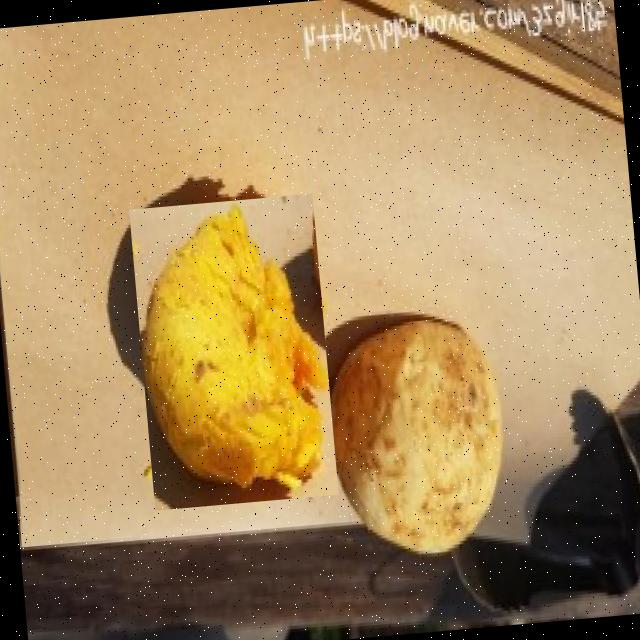Potato: (127, 192, 338, 510), (314, 308, 514, 568)
